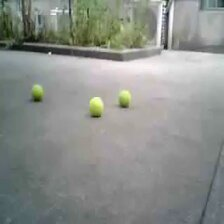tennis: (88, 97, 104, 116), (116, 89, 132, 106), (31, 84, 43, 100)
